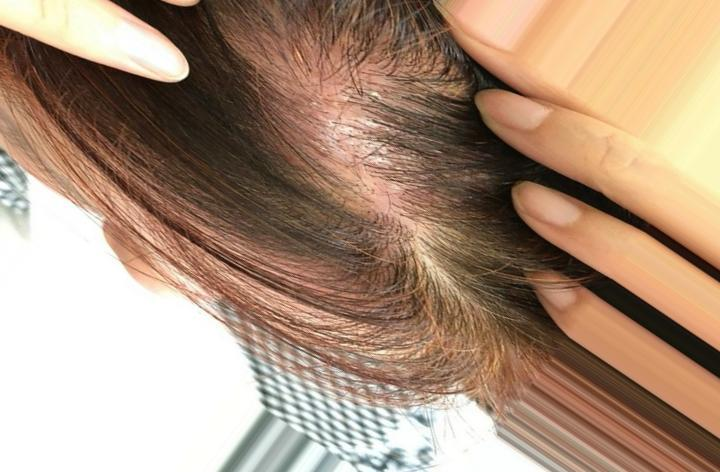Contact Dermatitis: (216, 0, 435, 269)
